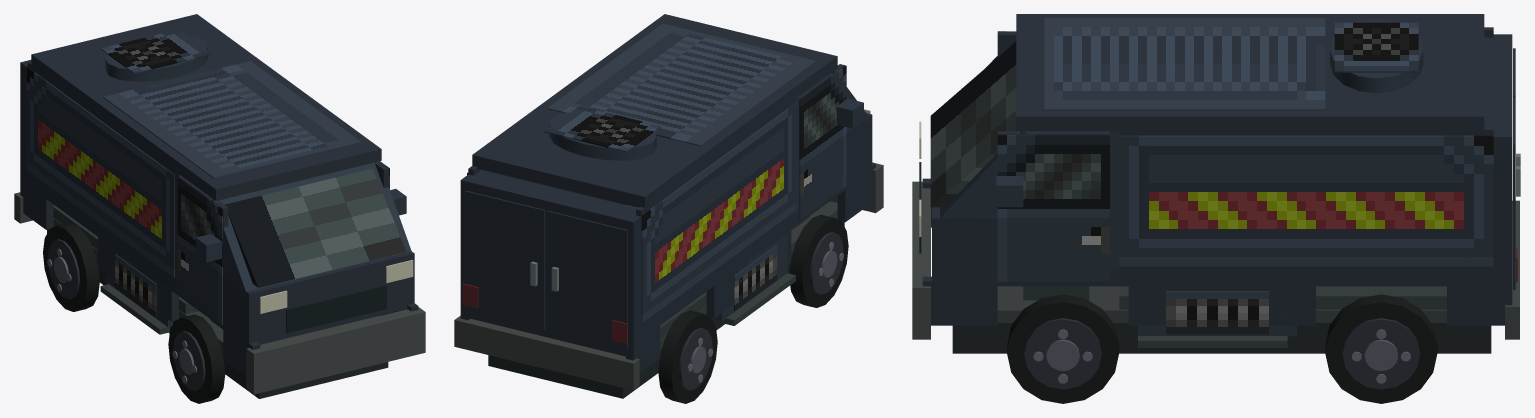
File: CMU3DRMCPropVehicleBoxVanMaintGreyF.glb
3 views of the same model, side by side, from view 1: azimuth 30°, elevation 25°; view 2: azimuth 150°, elevation 25°; view 3: azimuth 270°, elevation 25° (orthographic). The views are drawn at different scales.
Visible parts, largest first — view 1: original roof panel, original cargo side -1, roof slab, continuous sloping windshield, front bumper, front cab lower, original cab door -1, front glazing surround, original stationary fan, tire 2 -1, tire 1 -1, upper wheel rail -1 (+18 smaller); view 2: original cargo side -1, original roof panel, roof slab, rear door panel 1, rear door panel -1, rear closure, rear bumper, original cab door -1, original stationary fan, tire 2 -1, upper wheel rail -1, tire 1 -1 (+16 smaller); view 3: original cargo side 1, original roof panel, roof slab, original cab door 1, continuous sloping windshield, upper wheel rail 1, rear closure, ladder chassis, tire 2 1, tire 1 1, cargo side shell 1, lower skirt 1 1 (+22 smaller).
Part boxes in pixels (x1,y1,x2,y2): original roof panel: (103,61,361,178); original cargo side -1: (26,67,174,277); roof slab: (31,14,381,200); continuous sloping windshield: (225,168,406,287); front bumper: (246,307,425,394); front cab lower: (216,251,414,345); original cab door -1: (177,177,222,324); front glazing surround: (212,161,411,298); original stationary fan: (100,29,212,73); tire 2 -1: (43,222,99,311); tire 1 -1: (168,314,225,403); upper wheel rail -1: (24,170,256,346); original cargo side -1: (641,103,796,322); original roof panel: (547,23,816,146); roof slab: (472,14,837,208); rear door panel 1: (464,190,545,329); rear door panel -1: (547,210,627,350); rear closure: (460,170,648,357); rear bumper: (454,315,639,390); original cab door -1: (799,65,846,219); original stationary fan: (544,106,661,152); tire 2 -1: (658,310,717,403); upper wheel rail -1: (637,158,872,341); tire 1 -1: (789,214,848,307); original cargo side 1: (1119,135,1493,266); original roof panel: (1044,18,1325,110); roof slab: (1016,14,1484,131); original cab door 1: (997,135,1109,281); continuous sloping windshield: (930,42,1016,207); upper wheel rail 1: (932,270,1502,286); rear closure: (1475,34,1512,302); ladder chassis: (952,323,1491,353); tire 2 1: (1325,294,1437,403); tire 1 1: (1007,294,1119,403); cargo side shell 1: (1119,126,1493,275); lower skirt 1 1: (1128,281,1315,325).
Bounding box in the file's own units: 0.98 × 1.11 × 2.03.
26 materials, 6 textured.
